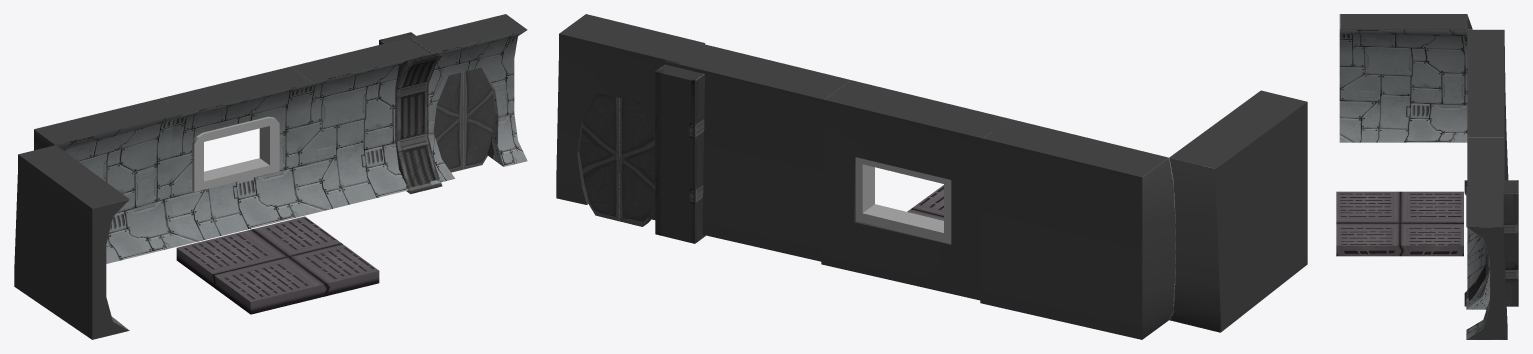
Rendered from bygblock.fbx.
The picture shows the model from 3 angles, left to right: view 1: azimuth 30°, elevation 25°; view 2: azimuth 150°, elevation 25°; view 3: azimuth 270°, elevation 25°; orthographic projection. The views are drawn at different scales.
Visible parts, largest first — view 1: wall_wide3, pCube21, wall_wide1, floor, door_entrens, pilar, pCube49, door1, door; view 2: wall_wide3, wall_wide1, pCube21, door_entrens, pilar, door1, door, pCube49, floor; view 3: wall_wide3, floor, door_entrens, pCube21, pilar, wall_wide1.
Part boxes in pixels (box(x1,y1,x2,y2)): wall_wide3: box(14, 98, 183, 339); pCube21: box(291, 37, 430, 213); wall_wide1: box(163, 66, 312, 244); floor: box(176, 216, 379, 314); door_entrens: box(409, 14, 527, 184); pilar: box(379, 32, 442, 194); pCube49: box(192, 116, 279, 191); door1: box(463, 67, 495, 169); door: box(433, 72, 463, 172); wall_wide3: box(980, 90, 1307, 339); wall_wide1: box(821, 80, 1009, 300); pCube21: box(665, 44, 850, 261); door_entrens: box(556, 14, 705, 219); pilar: box(655, 64, 705, 243); door1: box(579, 93, 618, 221); door: box(619, 98, 655, 226); pCube49: box(855, 157, 951, 244); floor: box(907, 185, 943, 220); wall_wide3: box(1339, 14, 1508, 180); floor: box(1336, 191, 1463, 256); door_entrens: box(1466, 186, 1507, 339); pCube21: box(1467, 137, 1504, 289); pilar: box(1464, 180, 1518, 306); wall_wide1: box(1467, 83, 1506, 249).
Size of the model in its own units: 7.98 by 2.13 by 2.85.
